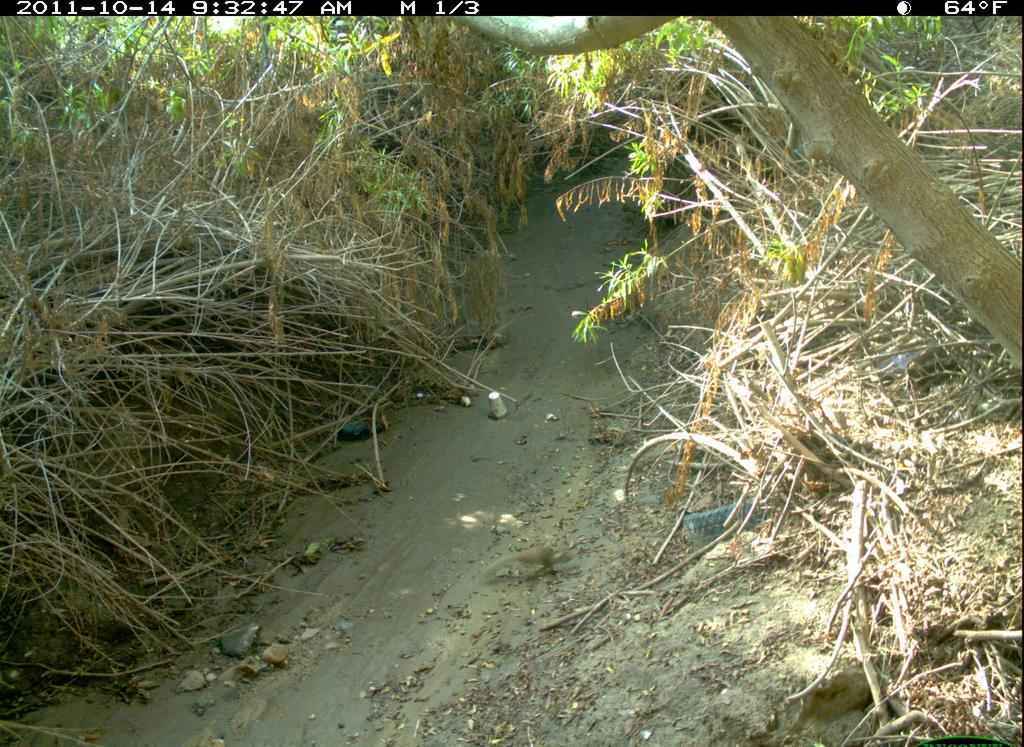squirrel: (482, 539, 585, 588)
